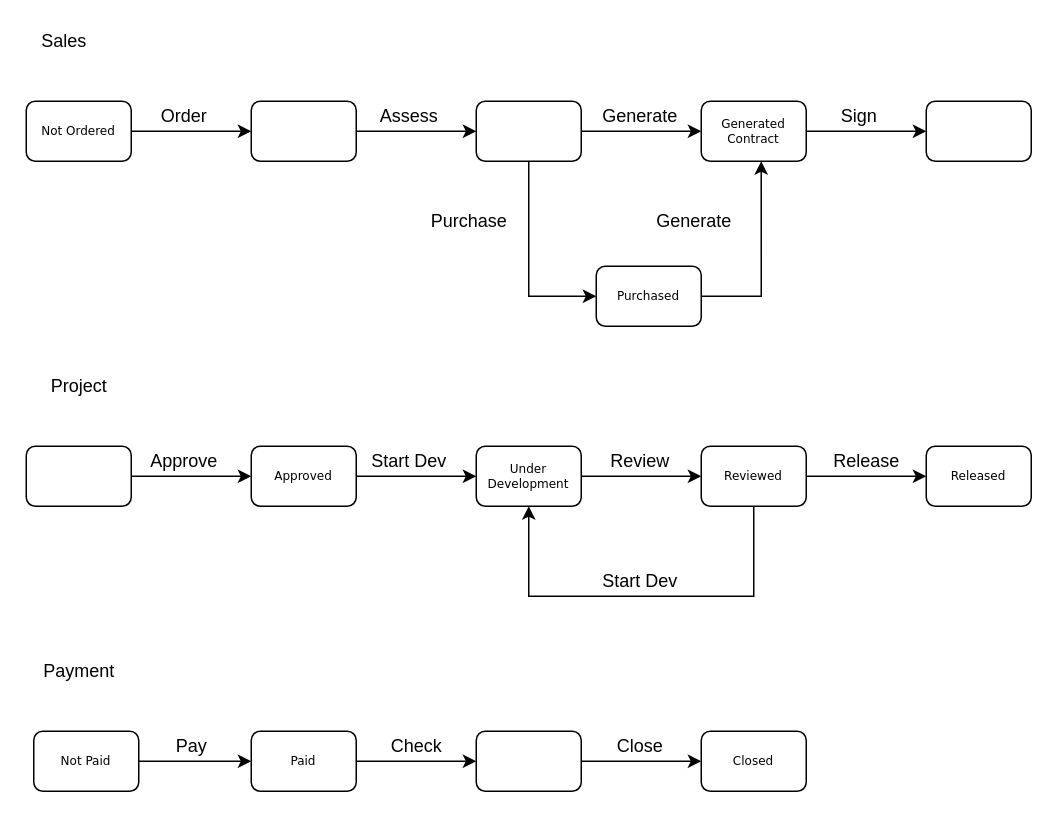
The diagram is 1058 pixels wide and 818 high, and some of its shapes have lost their labels. Each missing label, with the centre of its shape:
"Assessed" goes at point (528, 130).
"Bill Checked" goes at point (528, 760).
"Not Approved" goes at point (78, 475).
"Ordered" goes at point (303, 130).
"Signed Contract" goes at point (978, 130).
